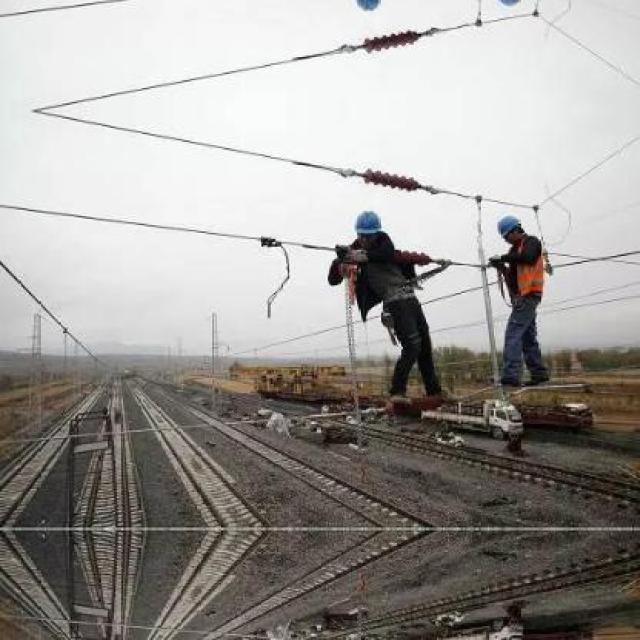helmet: (490, 208, 532, 250), (353, 205, 389, 248), (352, 0, 390, 19), (490, 0, 532, 14)
